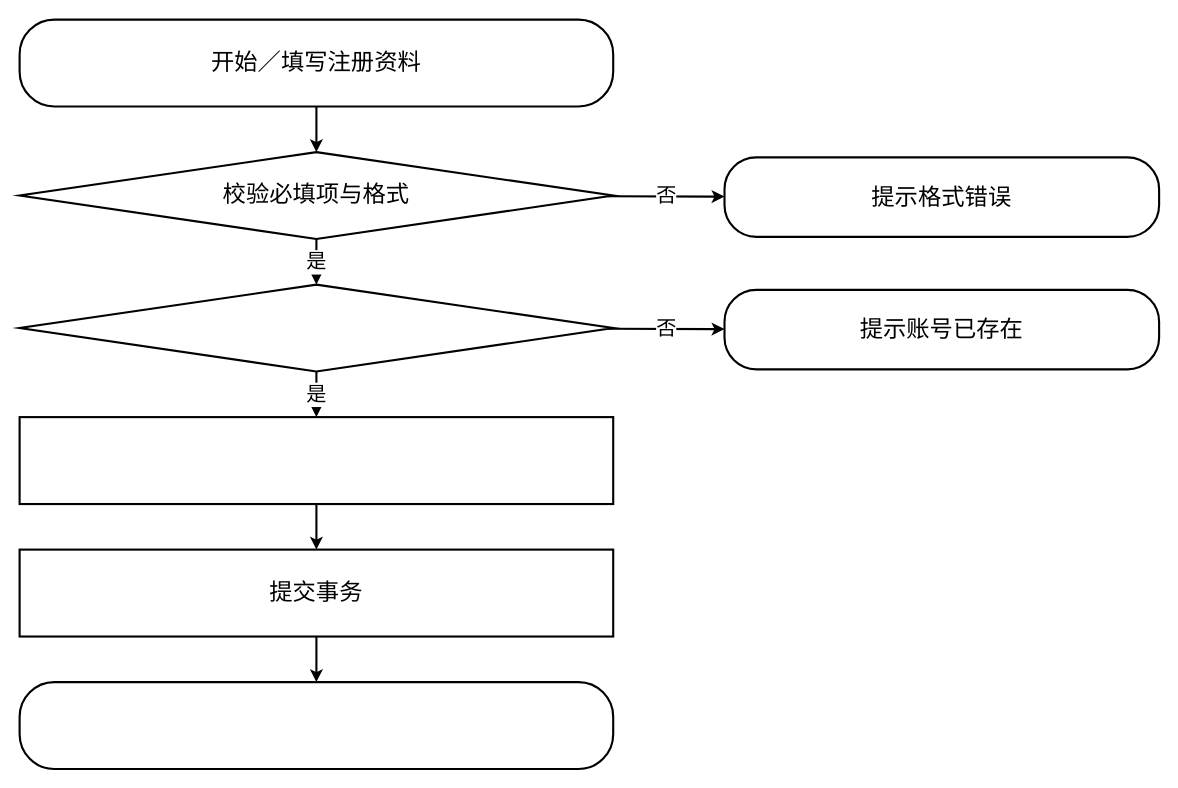
This 1178x788 diagram has some shape labels left out. The box of each missing label's shape, as (x1, y1, x2, y2) in pixels:
写入 sys_user 与 customer: (18, 416, 614, 505)
校验用户名、手机是否已存在: (18, 283, 614, 372)
注册成功: (18, 681, 614, 770)
